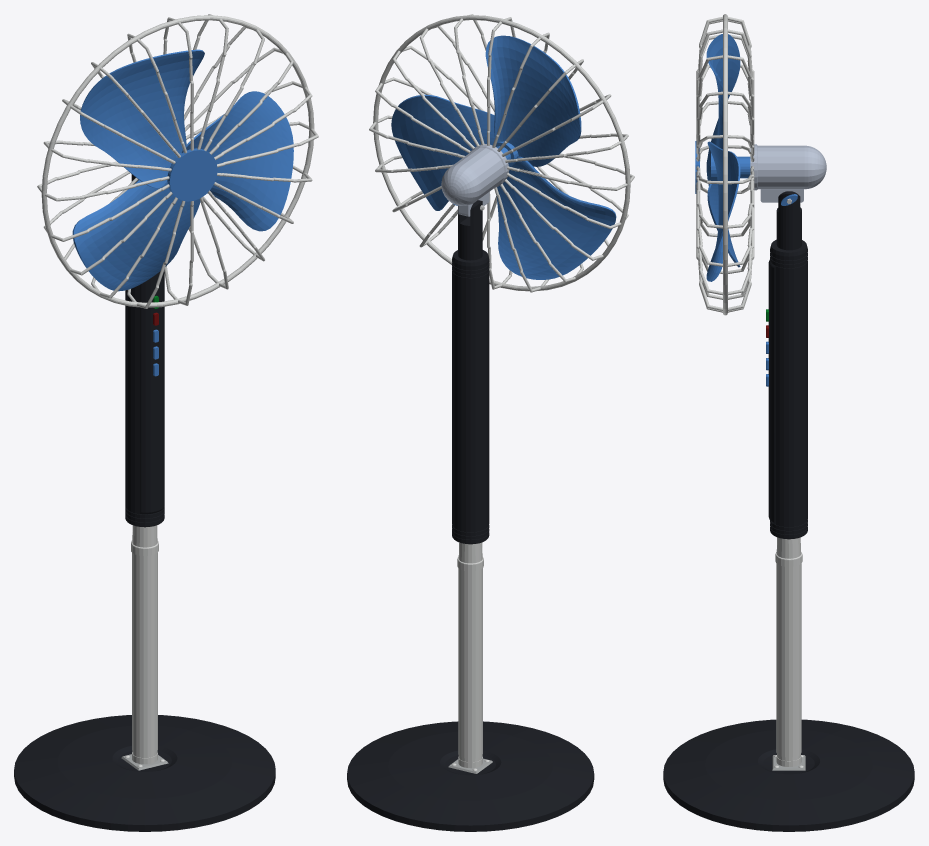
The model's file is fan.gltf.
The picture shows the model from 3 angles, left to right: view 1: azimuth 30°, elevation 25°; view 2: azimuth 150°, elevation 25°; view 3: azimuth 270°, elevation 25°; orthographic projection. The views are drawn at different scales.
Size of the model in its own units: 0.9109 by 2.5 by 0.7585.
Materials: 1 (1 with a texture image).
